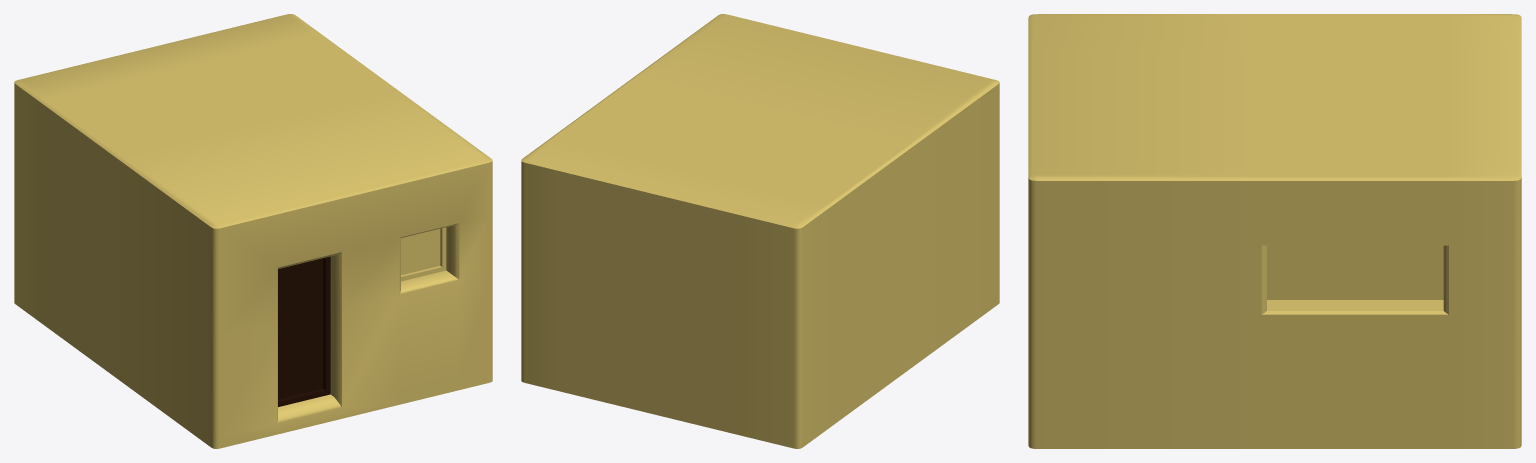
The model's file is Prop_House002.FBX.
3 views of the same model, side by side, from view 1: azimuth 30°, elevation 25°; view 2: azimuth 150°, elevation 25°; view 3: azimuth 270°, elevation 25° (orthographic). The views are drawn at different scales.
Parts seen in each view (by area): view 1: House02, House02Door; view 2: House02; view 3: House02.
Part boxes in pixels (x1,y1,x2,y2): House02: [14, 14, 492, 448]; House02Door: [278, 256, 330, 406]; House02: [521, 14, 999, 448]; House02: [1028, 14, 1521, 448].
Size of the model in its own units: 400 by 302 by 500.
